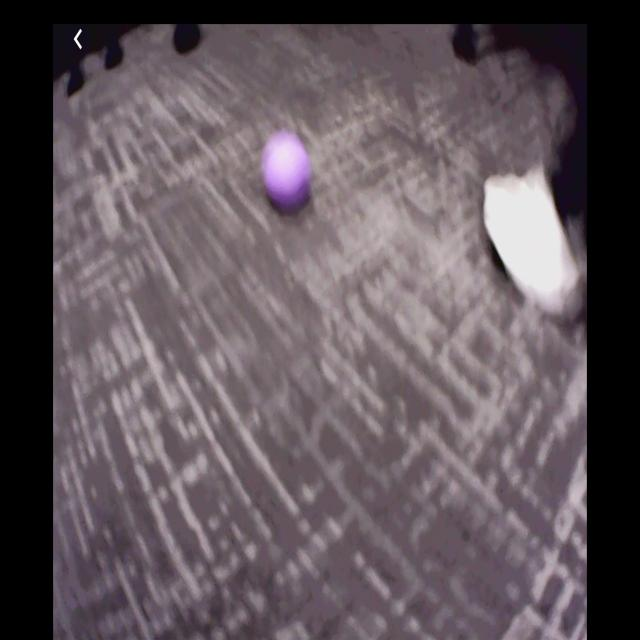ball: (263, 134, 310, 202)
